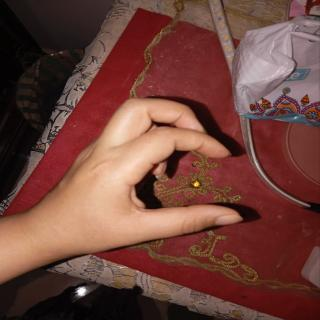DHELL: (38, 93, 252, 259)
